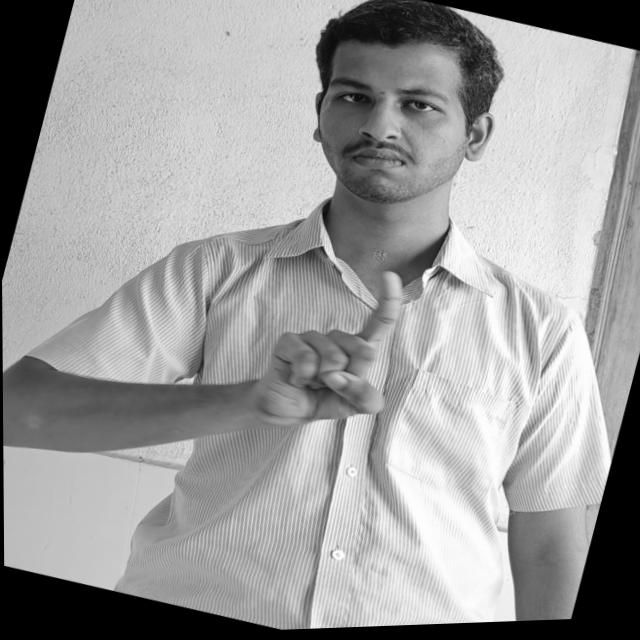Question: (247, 245, 420, 454)
